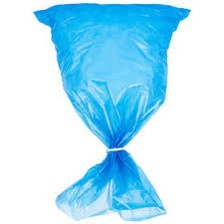plastic_bag: (26, 2, 195, 223)
